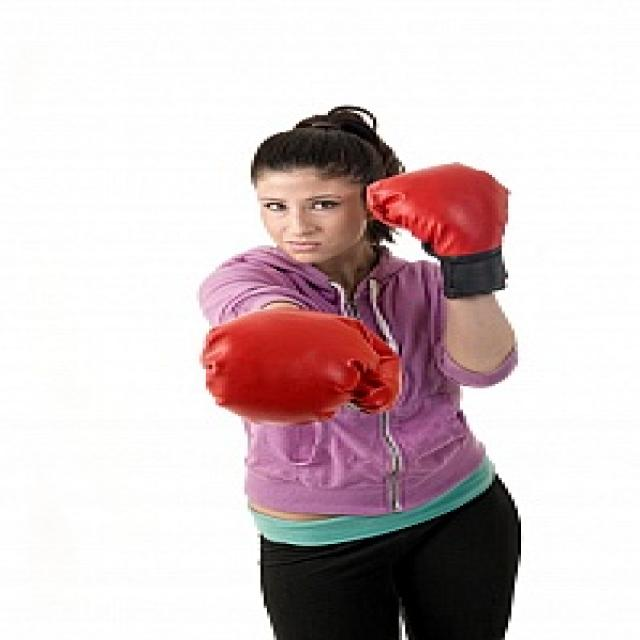Eyes: (260, 188, 349, 220)
